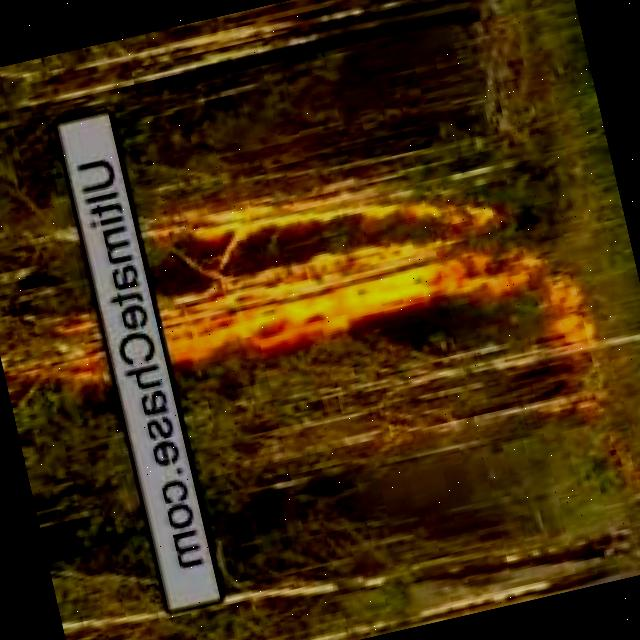fire: (146, 143, 534, 386), (83, 0, 372, 114), (9, 306, 111, 405), (536, 255, 608, 361)
